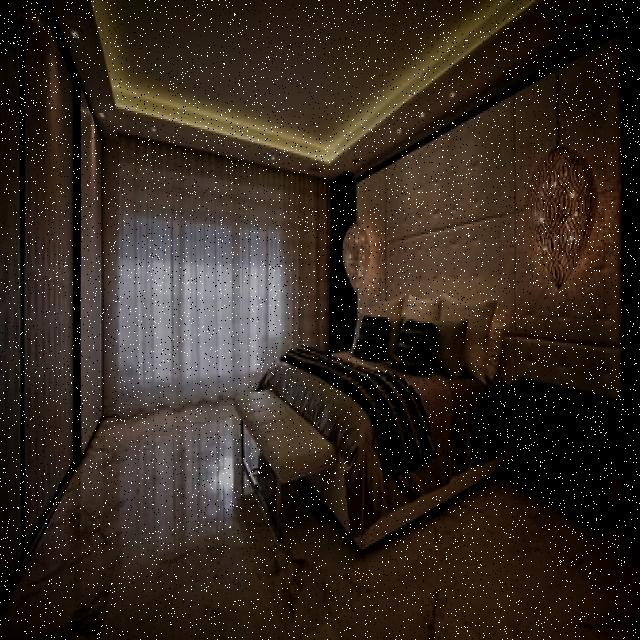bed: (260, 275, 512, 536)
